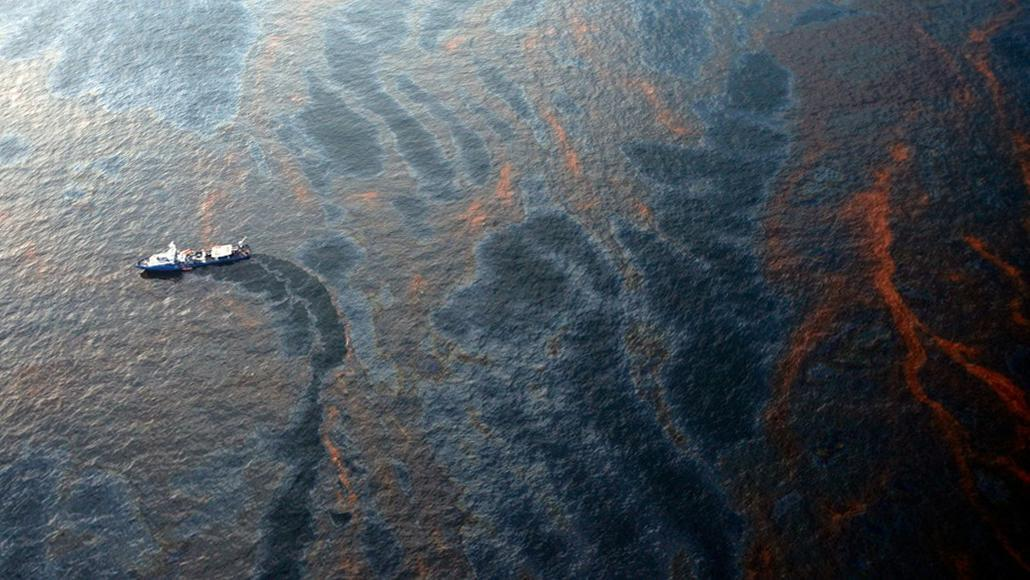Oil Pollution: (13, 48, 962, 524)
